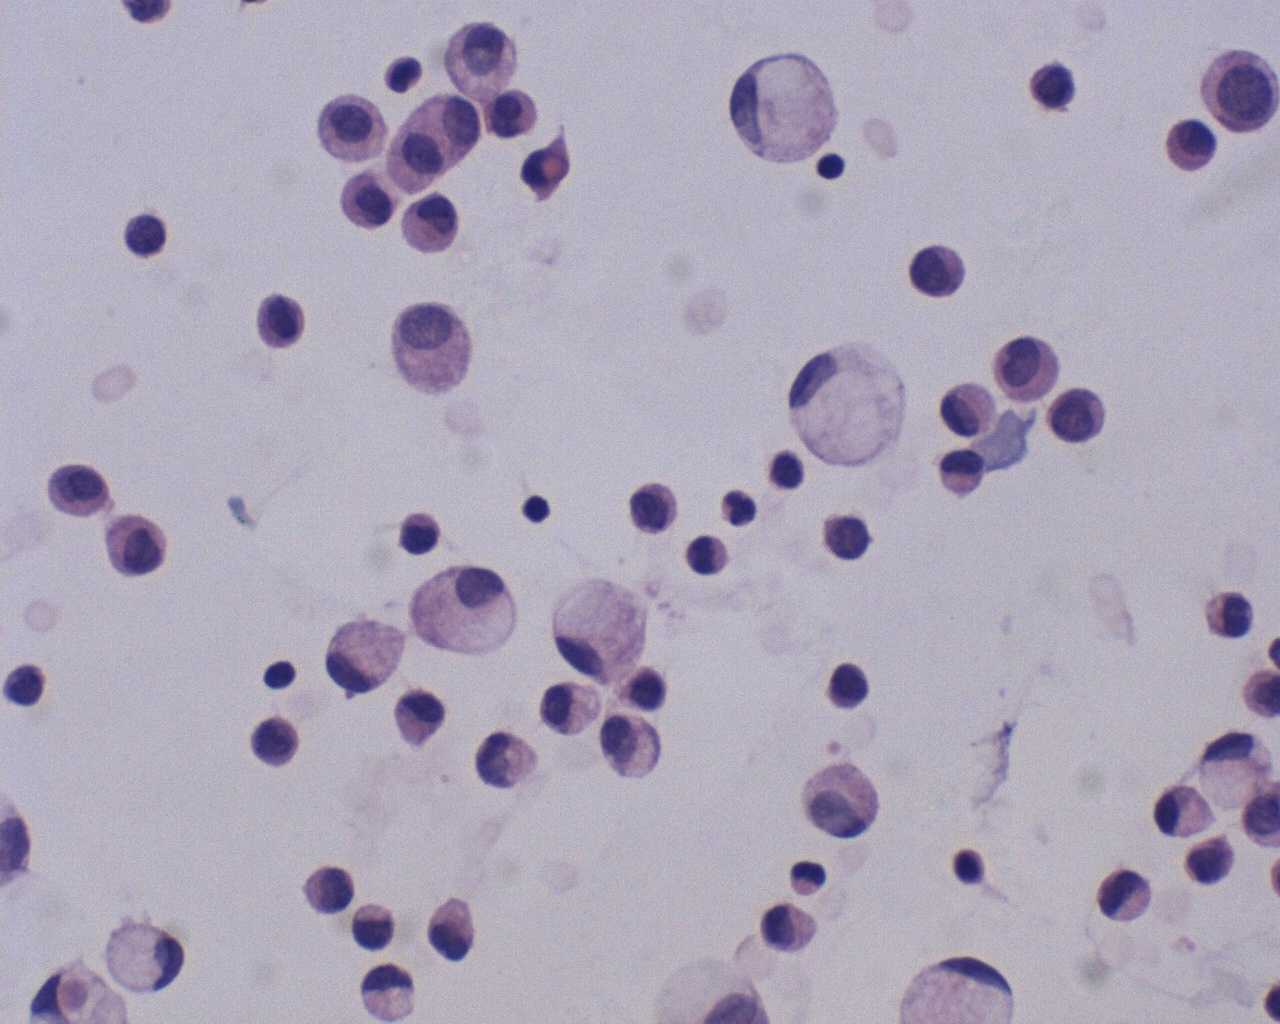ab: (1198, 42, 1280, 139), (100, 508, 172, 583), (43, 463, 120, 526), (905, 237, 973, 303), (1048, 385, 1111, 446), (248, 712, 311, 769), (1031, 59, 1083, 118)
histo: (774, 332, 914, 472), (718, 45, 854, 167), (548, 569, 667, 686), (408, 560, 523, 660), (99, 908, 191, 1001), (324, 610, 408, 699), (1195, 725, 1279, 812), (346, 958, 419, 1023), (1150, 781, 1226, 841)
lymph: (946, 844, 994, 892), (518, 491, 557, 527)
meso: (385, 294, 474, 398), (433, 19, 528, 103), (315, 88, 395, 164), (990, 330, 1066, 404), (402, 192, 467, 258)
neutro: (716, 481, 763, 529)
